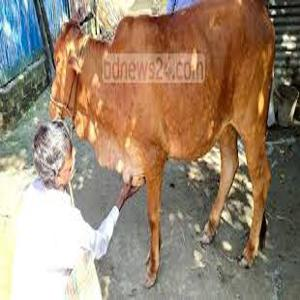lumpy skin diesease: (48, 0, 276, 288)
